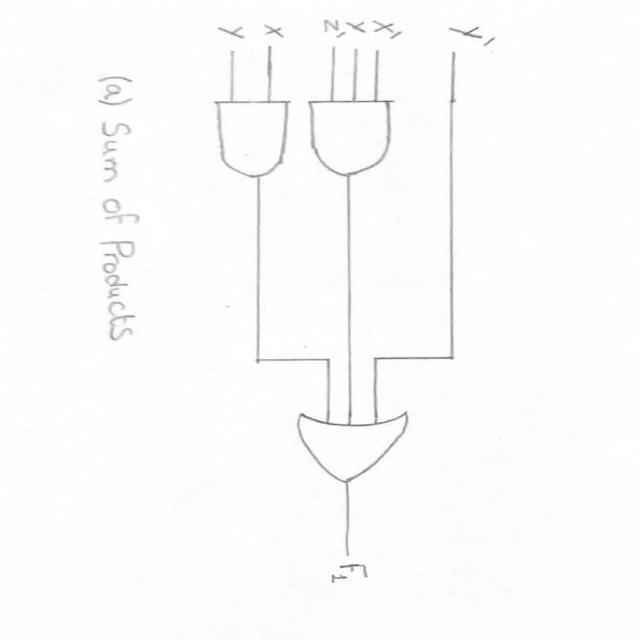AND: (302, 90, 410, 181), (198, 91, 294, 185)
OR: (284, 395, 440, 497)
